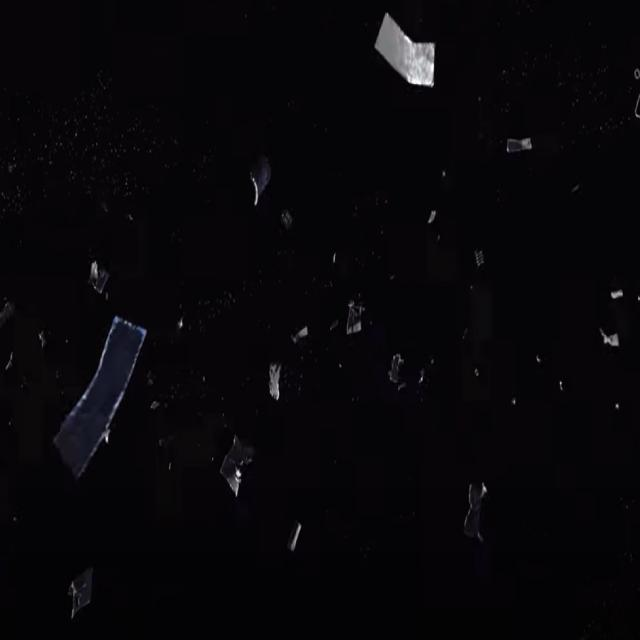large_debris: (40, 302, 156, 500), (361, 6, 453, 113), (209, 421, 262, 515), (237, 145, 279, 217), (456, 468, 492, 546), (336, 288, 370, 350), (258, 353, 290, 417), (84, 254, 110, 302)
